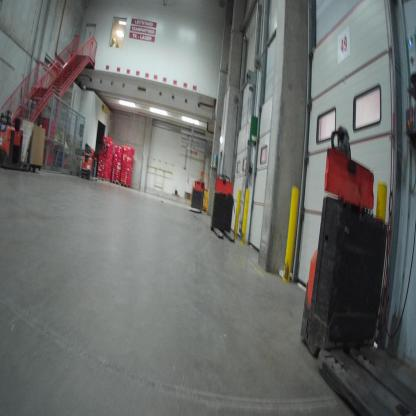pallet: (98, 175, 110, 183), (120, 182, 131, 189), (110, 179, 121, 185)
pallet_truck: (286, 98, 415, 413), (208, 170, 240, 246), (2, 107, 34, 172), (188, 174, 208, 218), (78, 147, 96, 179)
